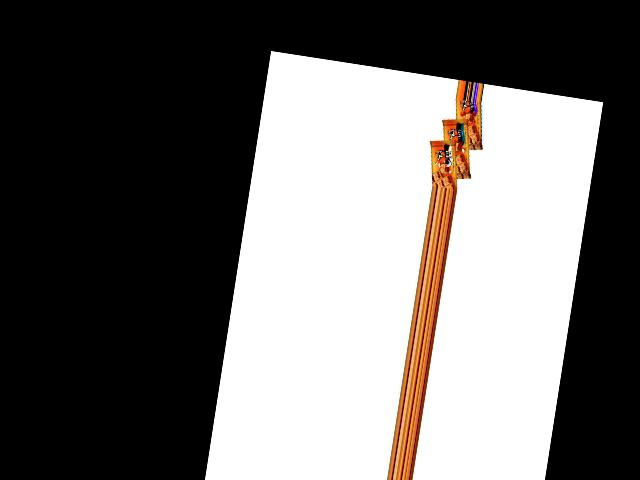chocolate: (447, 98, 486, 155)
